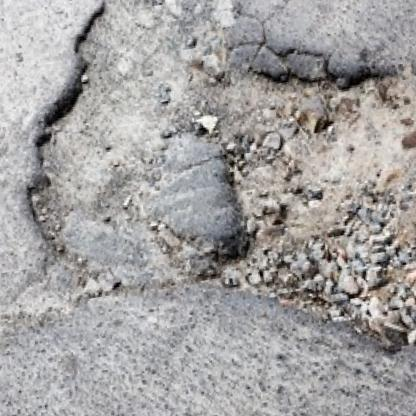pothole: (1, 0, 416, 403)
